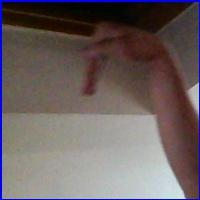A: (81, 20, 172, 103)
